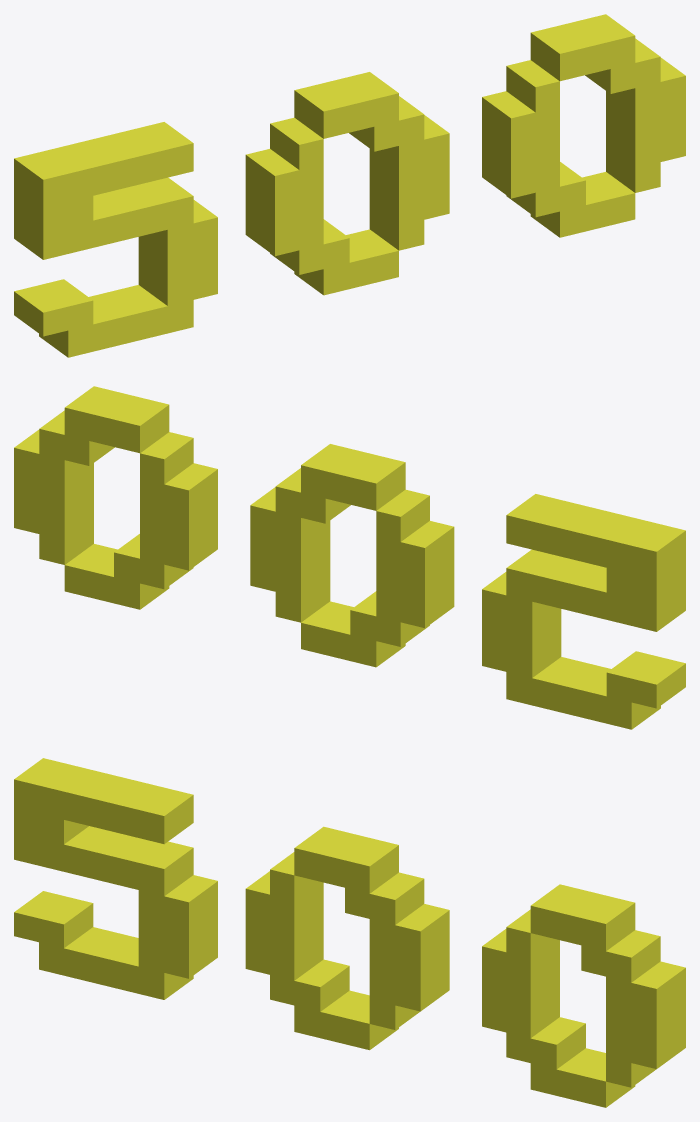
3 renders of one model, top to bottom at view 1: azimuth 30°, elevation 25°; view 2: azimuth 150°, elevation 25°; view 3: azimuth 330°, elevation 25°, orthographic.
Parts seen in each view (by area): view 1: 5, 0, 0.2; view 2: 5, 0, 0.2; view 3: 5, 0, 0.2.
Part boxes in pixels (bbox=[...]): 5: bbox=[14, 122, 217, 357]; 0: bbox=[245, 72, 449, 295]; 0.2: bbox=[482, 14, 685, 237]; 5: bbox=[482, 494, 685, 729]; 0: bbox=[250, 444, 454, 667]; 0.2: bbox=[14, 386, 217, 609]; 5: bbox=[14, 758, 217, 999]; 0: bbox=[245, 826, 449, 1050]; 0.2: bbox=[482, 884, 685, 1107].
Bounding box in the file's own units: 381 × 104 × 30.
